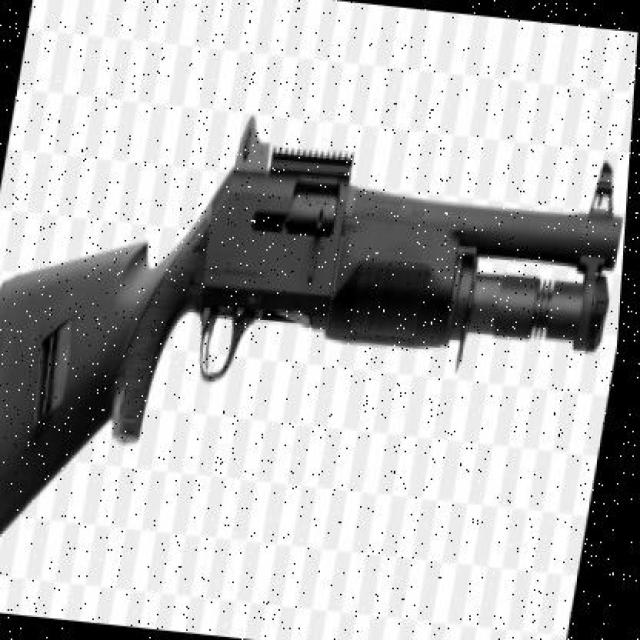weapon: (0, 117, 622, 537)
